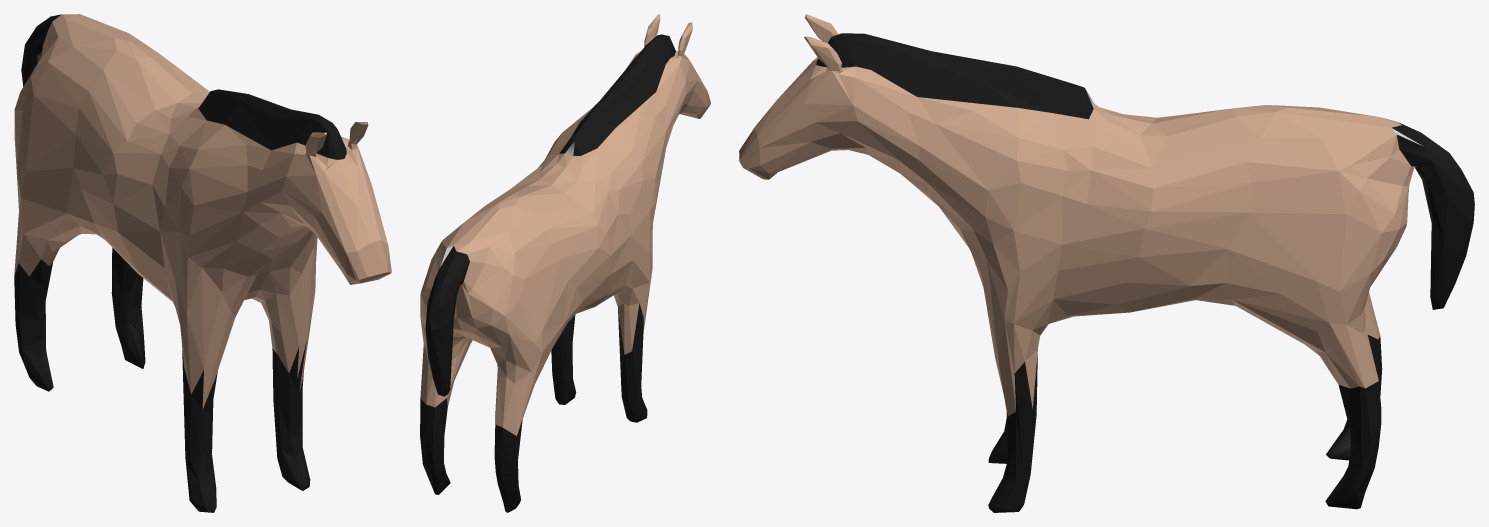
File: horse.fbx
3 views of the same model, side by side, from view 1: azimuth 30°, elevation 25°; view 2: azimuth 150°, elevation 25°; view 3: azimuth 270°, elevation 25° (orthographic). The views are drawn at different scales.
Parts seen in each view (by area): view 1: Horse; view 2: Horse; view 3: Horse.
Part boxes in pixels (box(x1,y1,x2,y2)): Horse: box(14, 14, 391, 512); Horse: box(420, 14, 710, 512); Horse: box(739, 14, 1474, 512).
Size of the model in its own units: 113 by 314 by 454.
